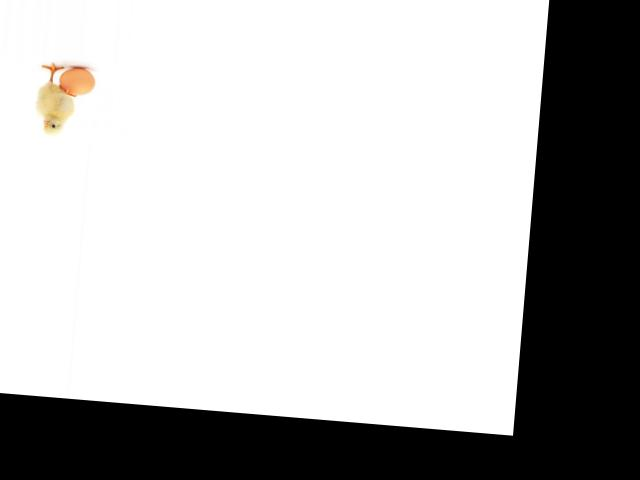egg: (57, 66, 96, 97)
